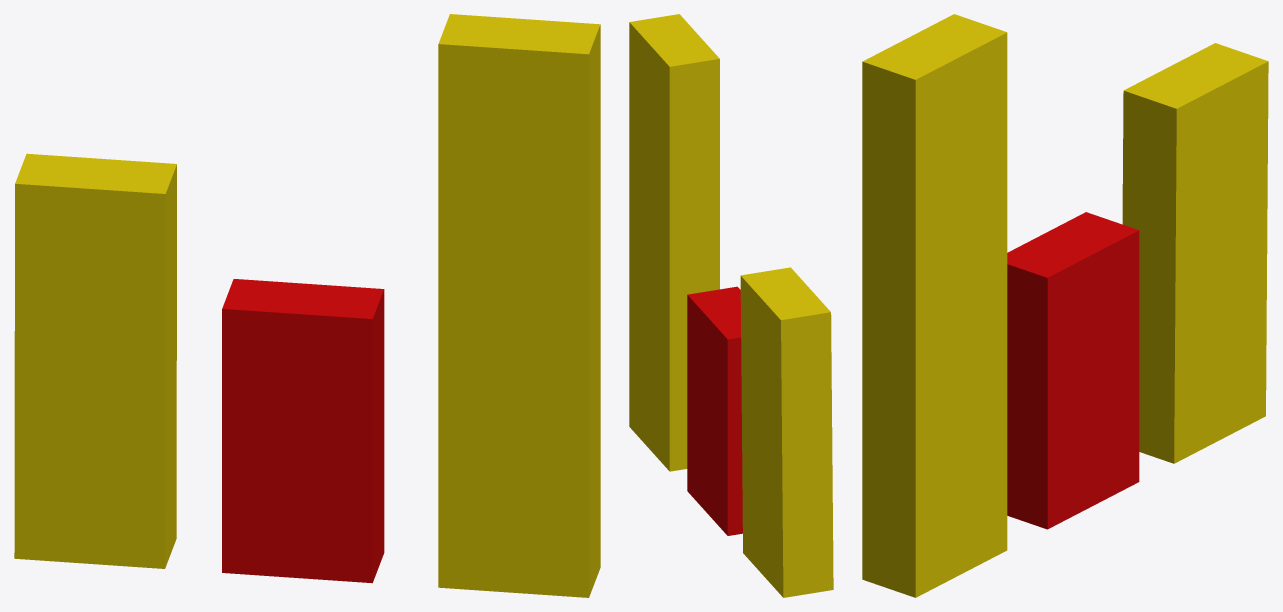
Rendered from graph_bars.gltf.
3 views of the same model, side by side, from view 1: azimuth 30°, elevation 25°; view 2: azimuth 150°, elevation 25°; view 3: azimuth 270°, elevation 25° (orthographic). The views are drawn at different scales.
Visible parts, largest first — view 1: Bars.001; view 2: Bars.001; view 3: Bars.001.
Boxes of the visible parts, x1,y1,x2,y2 form: Bars.001: (14, 14, 600, 597); Bars.001: (629, 14, 833, 597); Bars.001: (862, 14, 1268, 597).
Size of the model in its own units: 0.271 by 0.3272 by 0.2325.
